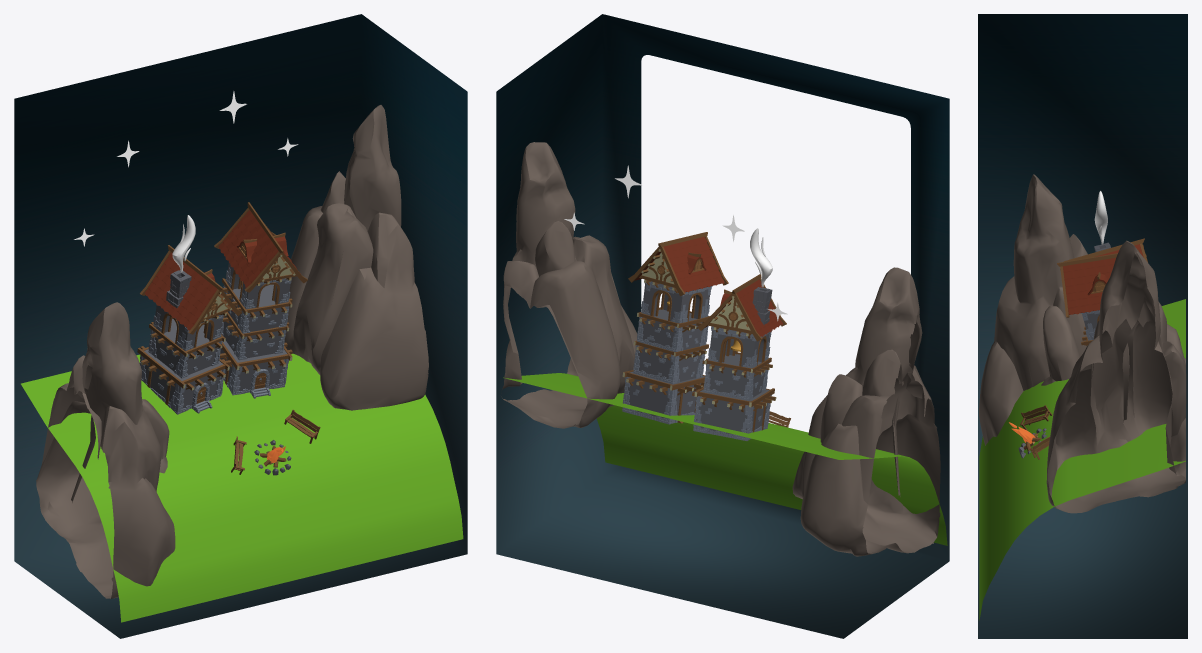
Rendered from 16_Belltowers.gltf.
3 views of the same model, side by side, from view 1: azimuth 30°, elevation 25°; view 2: azimuth 150°, elevation 25°; view 3: azimuth 270°, elevation 25° (orthographic).
Parts seen in each view (by area): view 1: 16_Belltowers, 16_Belltowers_bg; view 2: 16_Belltowers_bg, 16_Belltowers; view 3: 16_Belltowers_bg, 16_Belltowers.
Part boxes in pixels (x1,y1,x2,y2): 16_Belltowers: (21, 91, 463, 622); 16_Belltowers_bg: (14, 14, 467, 638); 16_Belltowers_bg: (496, 14, 949, 638); 16_Belltowers: (501, 142, 947, 556); 16_Belltowers_bg: (978, 14, 1187, 638); 16_Belltowers: (979, 174, 1186, 620).
Size of the model in its own units: 2.76 by 3.51 by 1.46.
2 materials, 2 textured.
